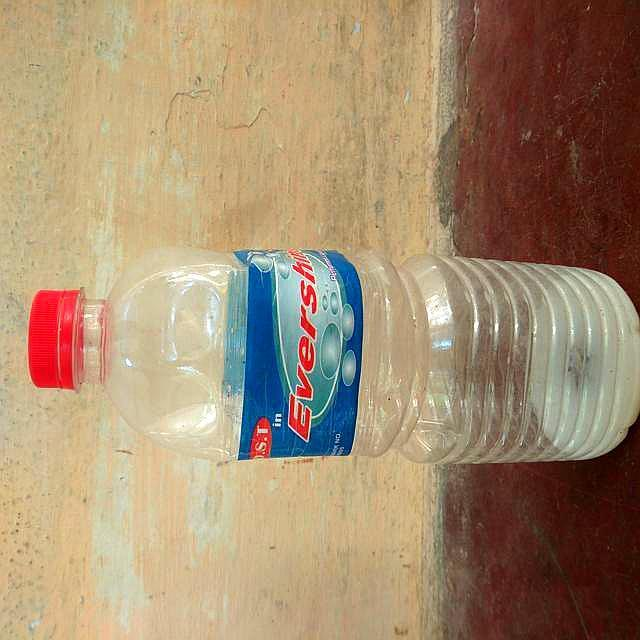Non-biodegradable: (29, 249, 640, 471)
